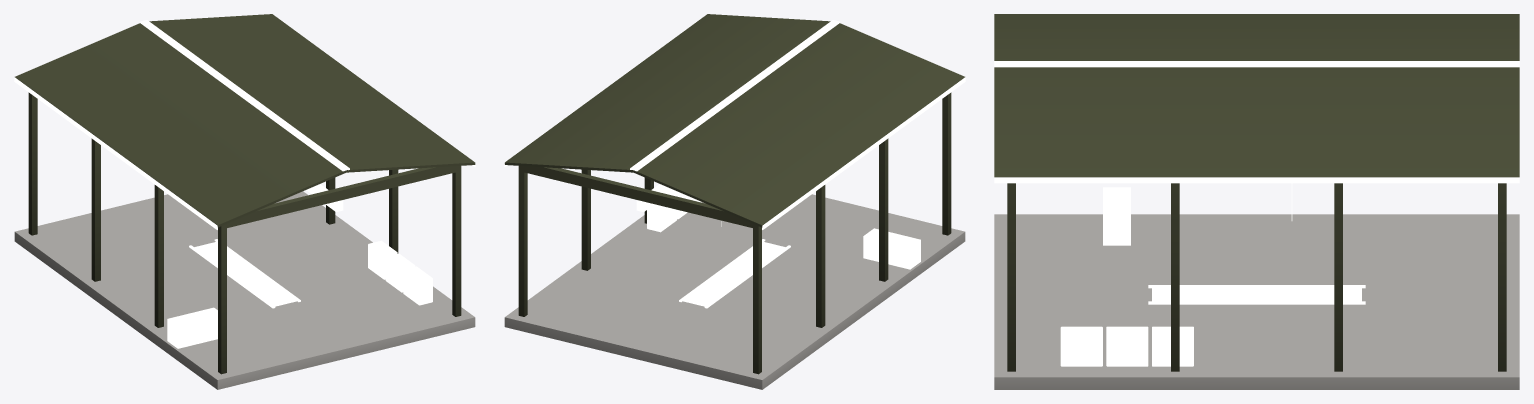
Rendered from repair_bay.glb.
3 renders of one model, left to right at view 1: azimuth 30°, elevation 25°; view 2: azimuth 150°, elevation 25°; view 3: azimuth 270°, elevation 25°, orthographic. The views are drawn at different scales.
Visible parts, largest first — view 1: repair_bay_LOD0; view 2: repair_bay_LOD0; view 3: repair_bay_LOD0.
Boxes of the visible parts, x1,y1,x2,y2 form: repair_bay_LOD0: (14,14,475,389); repair_bay_LOD0: (504,14,965,389); repair_bay_LOD0: (994,14,1519,389).
Size of what is drawn, in the model's own units: 11.04 by 7.72 by 15.
